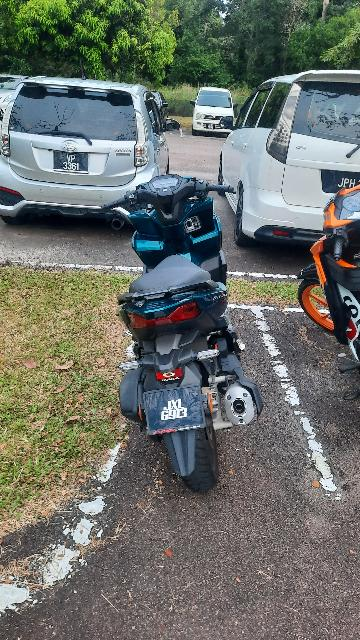License_Plate: (143, 385, 206, 436), (320, 165, 360, 197), (51, 148, 93, 177), (207, 124, 216, 130)
car: (1, 72, 173, 227), (227, 69, 360, 256), (190, 81, 236, 133)
motorcycle: (102, 171, 270, 499), (305, 156, 360, 404)
